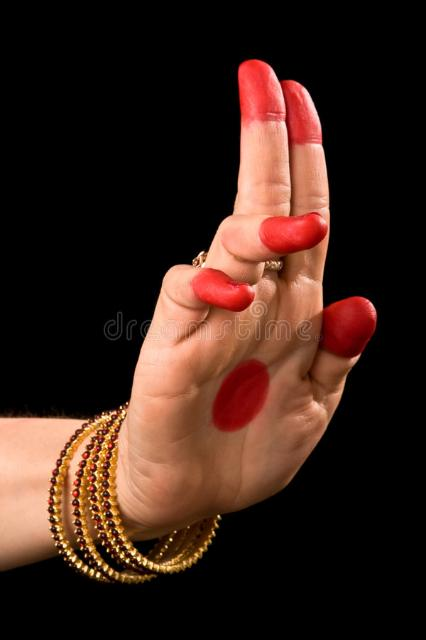ardhpataka: (109, 54, 379, 522)
